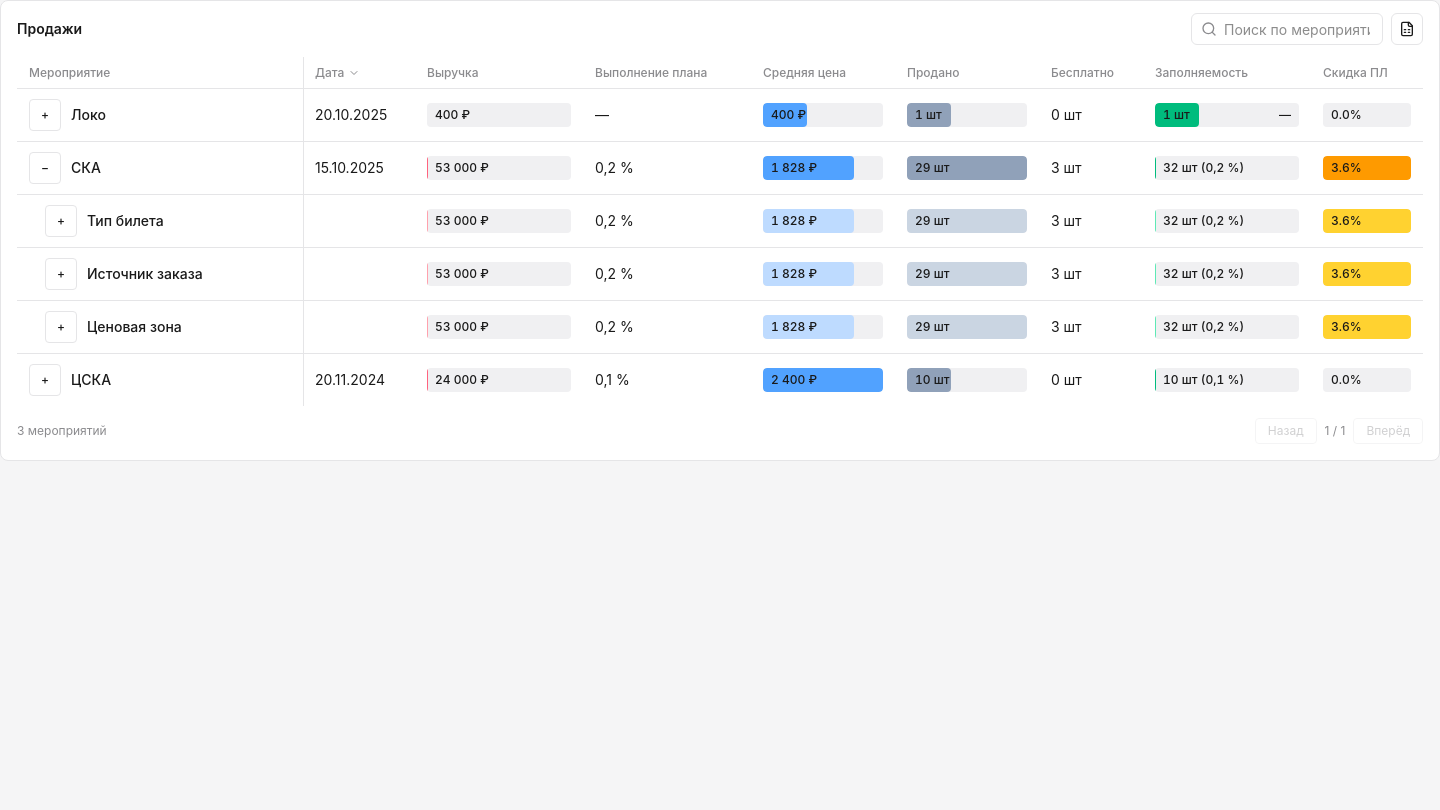
it: MatchSalesTable integration (E2E stand-in) › scenario 2: expanding one section does not open the others
Click the button "+" next to "Ценовая зона": (61, 327) [45,311,77,343]
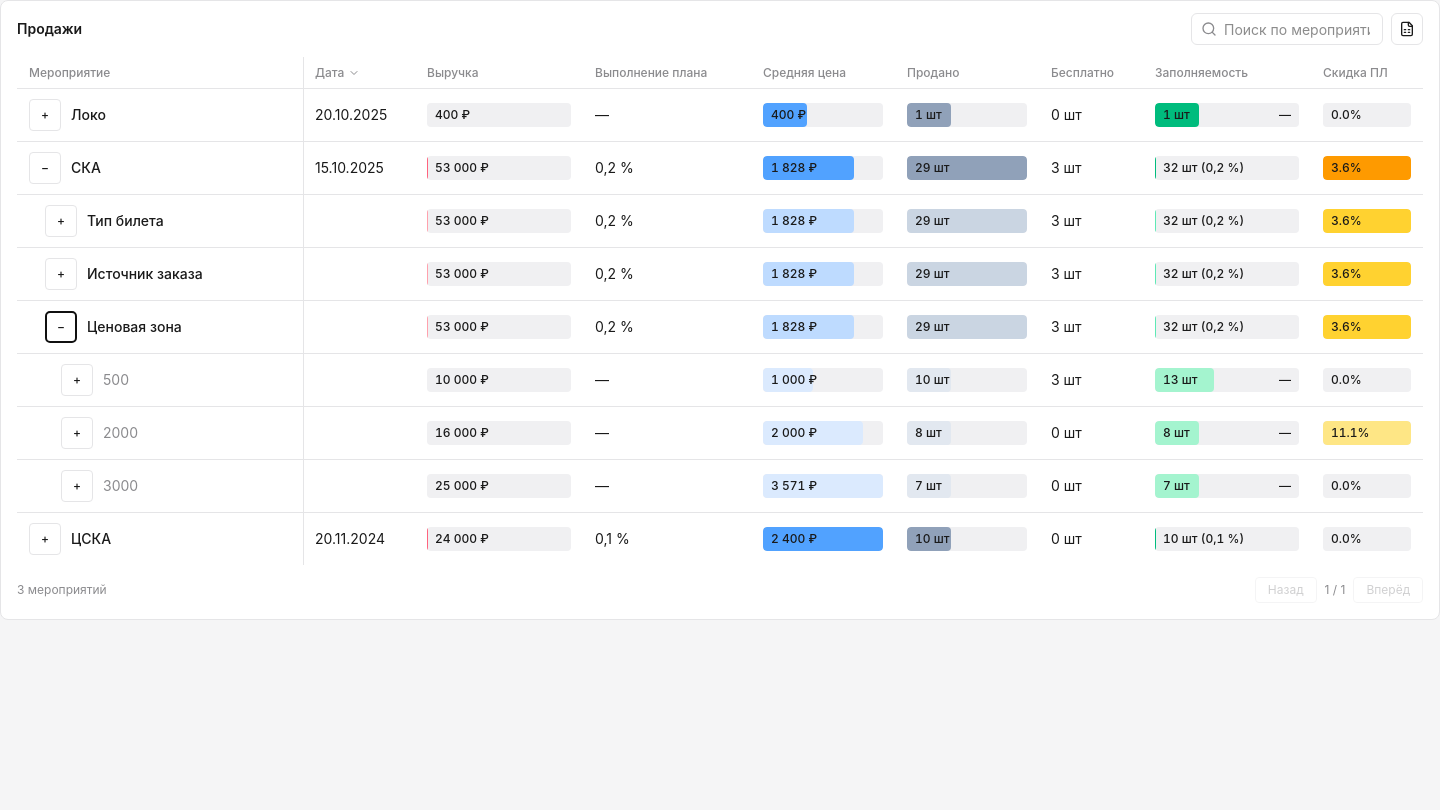
Now the text "2000" is shown, box [103,423,138,443]
